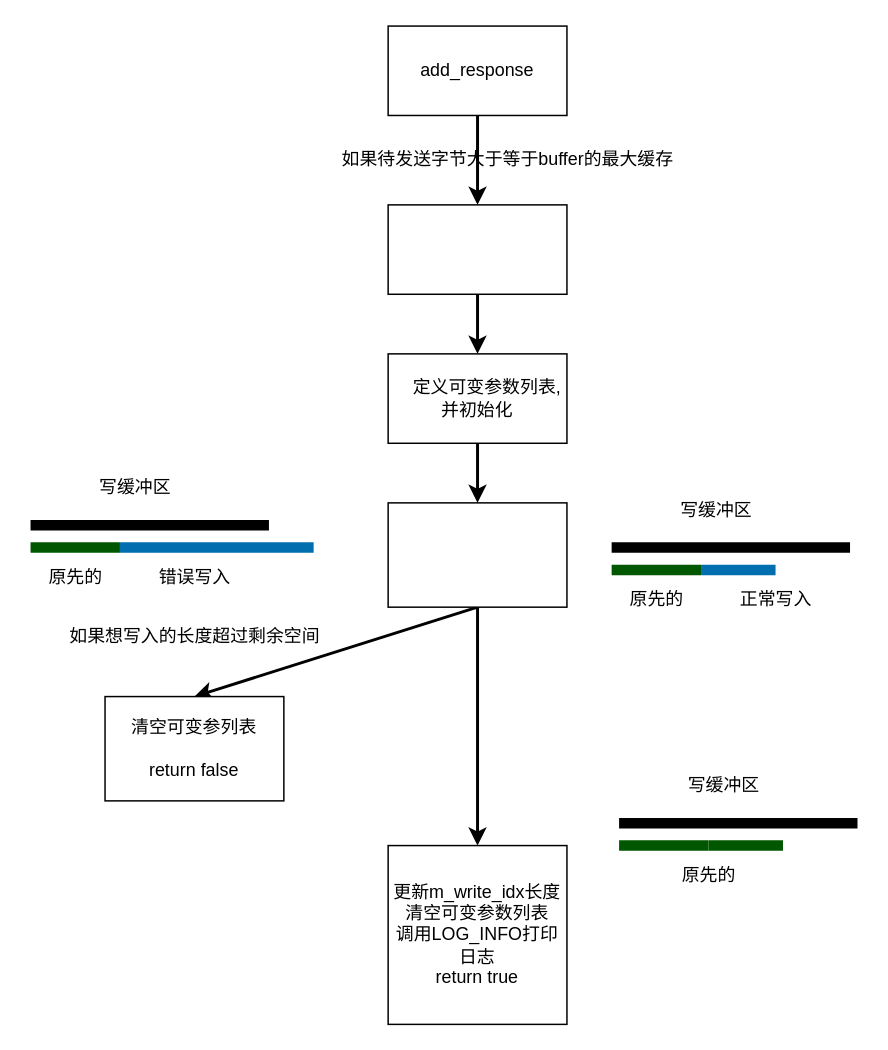
Image size: 888x1050. Some labels were removed from this diagram. Here are the shapes that lost their labels. From the top down, the centre of each, then its label:
(x=477, y=248): return false
(x=477, y=554): 将数据format从可变参数列表写入缓冲区写，返回写入数据的长度
